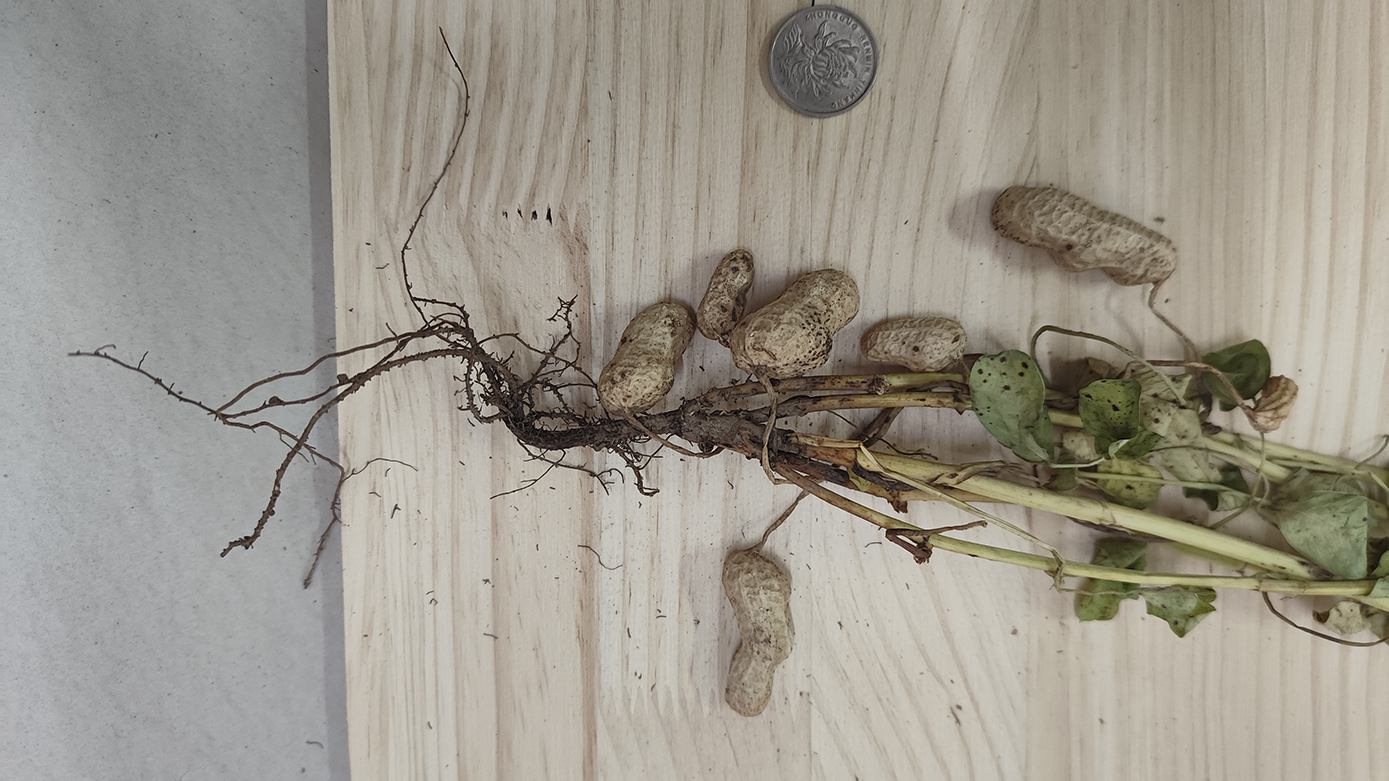h: (990, 184, 1178, 283), (732, 269, 861, 381), (722, 549, 796, 718), (600, 300, 694, 413), (861, 314, 966, 373), (696, 249, 755, 339)
l: (1251, 374, 1298, 431)
